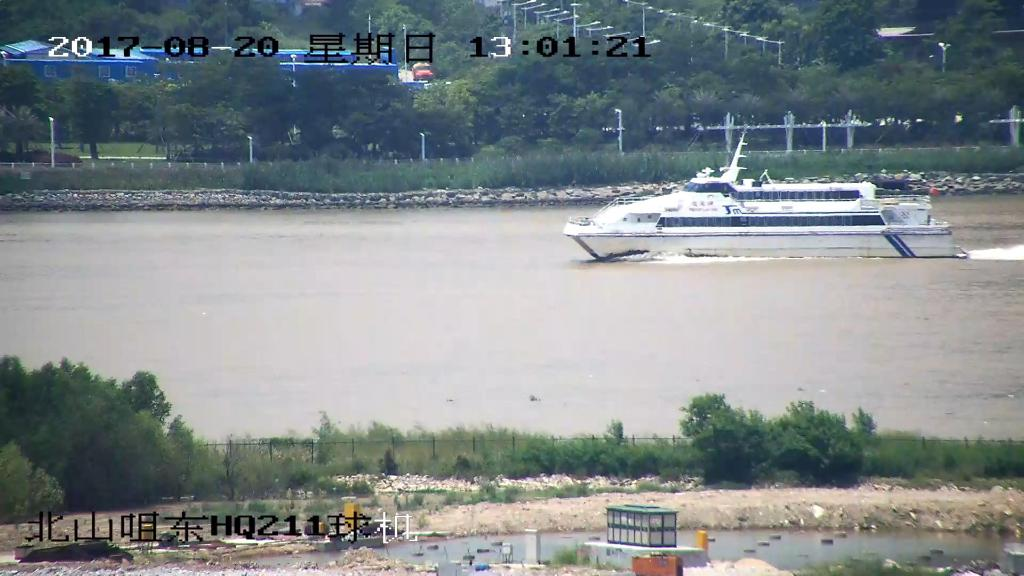PassengerShip: (560, 140, 974, 268)
